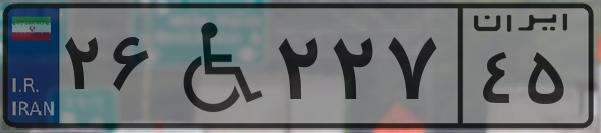2: (270, 28, 330, 110), (330, 28, 385, 110), (57, 26, 110, 100)
4: (475, 38, 525, 113)
5: (525, 38, 570, 115)
6: (110, 28, 158, 98)
7: (385, 28, 445, 110)
ژ (معلولین و جانبازان): (158, 12, 270, 120)
